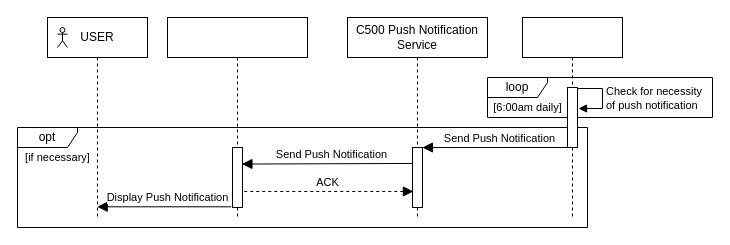
This 730x245 diagram has some shape labels left out. The centre of each missing label's shape, as x and y in pixels:
"C100 Mobile Backend" belongs at (x=572, y=117).
"C200 Mobile App (React Native Push SDK)" belongs at (x=237, y=117).
